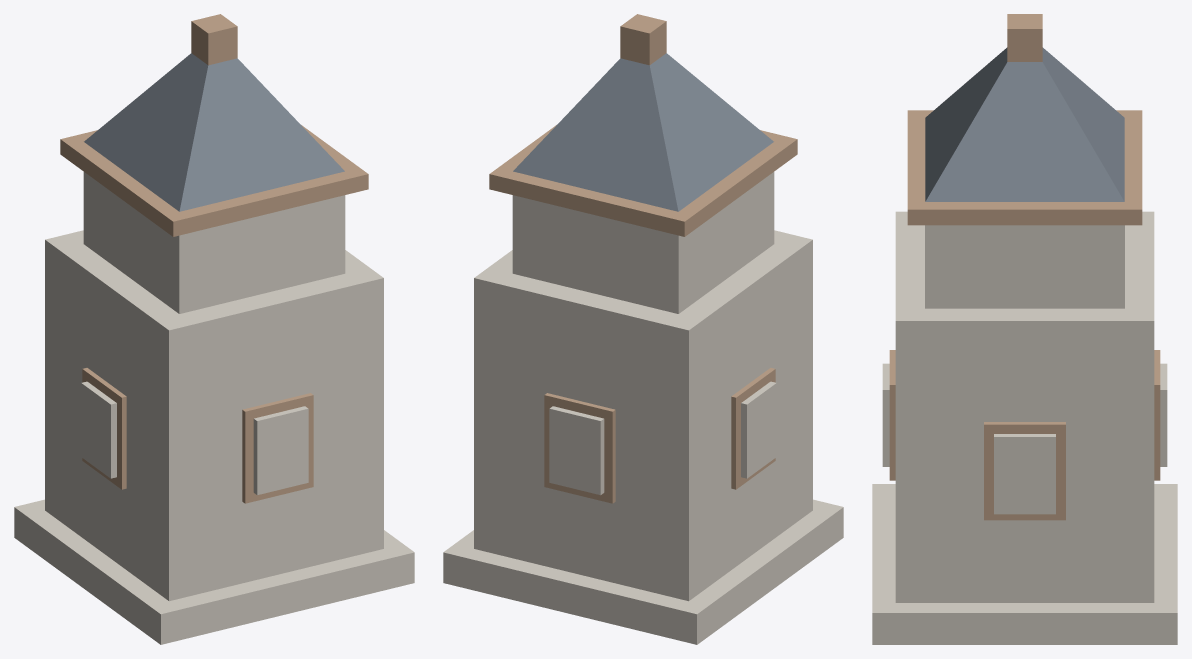
The model's file is wall-tower-a.glb.
3 views of the same model, side by side, from view 1: azimuth 30°, elevation 25°; view 2: azimuth 150°, elevation 25°; view 3: azimuth 270°, elevation 25° (orthographic). The views are drawn at different scales.
Parts seen in each view (by area): view 1: wall-tower-a; view 2: wall-tower-a; view 3: wall-tower-a.
Boxes of the visible parts, x1,y1,x2,y2 form: wall-tower-a: (14, 14, 414, 644); wall-tower-a: (443, 14, 843, 644); wall-tower-a: (872, 14, 1177, 644).
Size of the model in its own units: 1.04 by 2.1 by 1.04.
